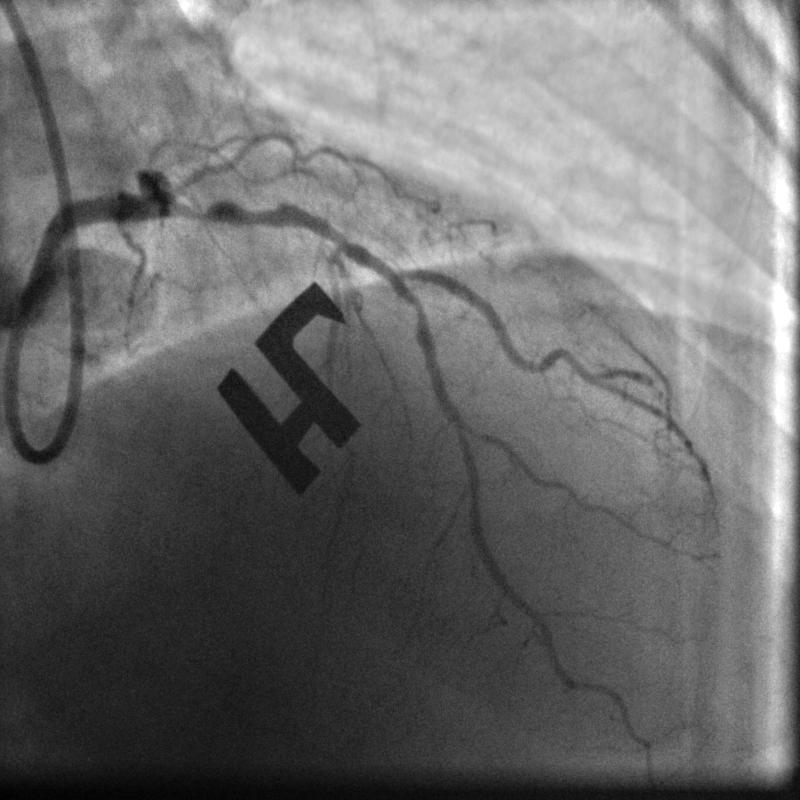Stenosis: (187, 187, 285, 220)
